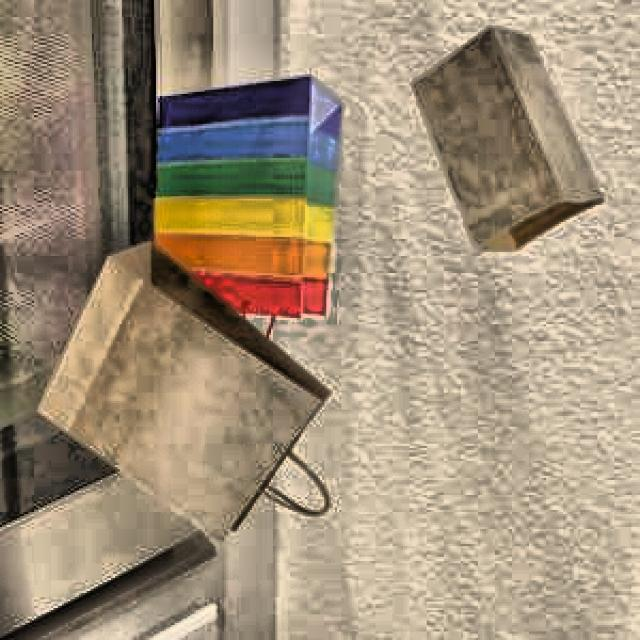Paper-bag: (31, 238, 348, 561), (124, 66, 346, 338), (406, 12, 602, 274)
